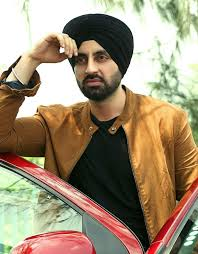helmet: (58, 13, 139, 102)
